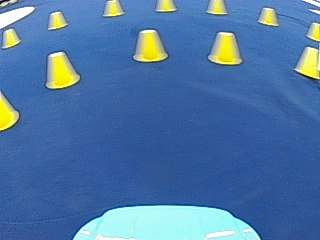cone: (45, 50, 79, 89), (208, 31, 242, 65), (133, 28, 167, 62), (294, 45, 318, 78), (0, 91, 18, 129), (48, 10, 67, 29), (2, 28, 20, 48), (258, 7, 277, 25), (103, 0, 123, 16), (207, 0, 226, 15), (305, 21, 319, 40), (156, 0, 175, 11)
